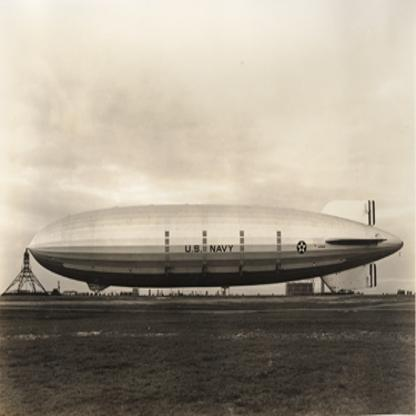Airship: (28, 199, 405, 297)
